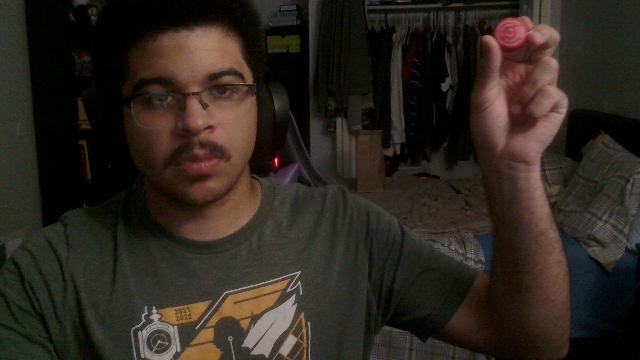cap: (494, 18, 526, 50)
